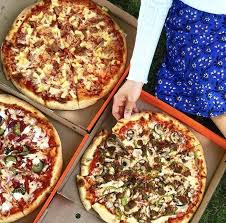pizza: (86, 119, 210, 223), (4, 1, 126, 105), (1, 103, 56, 209)
